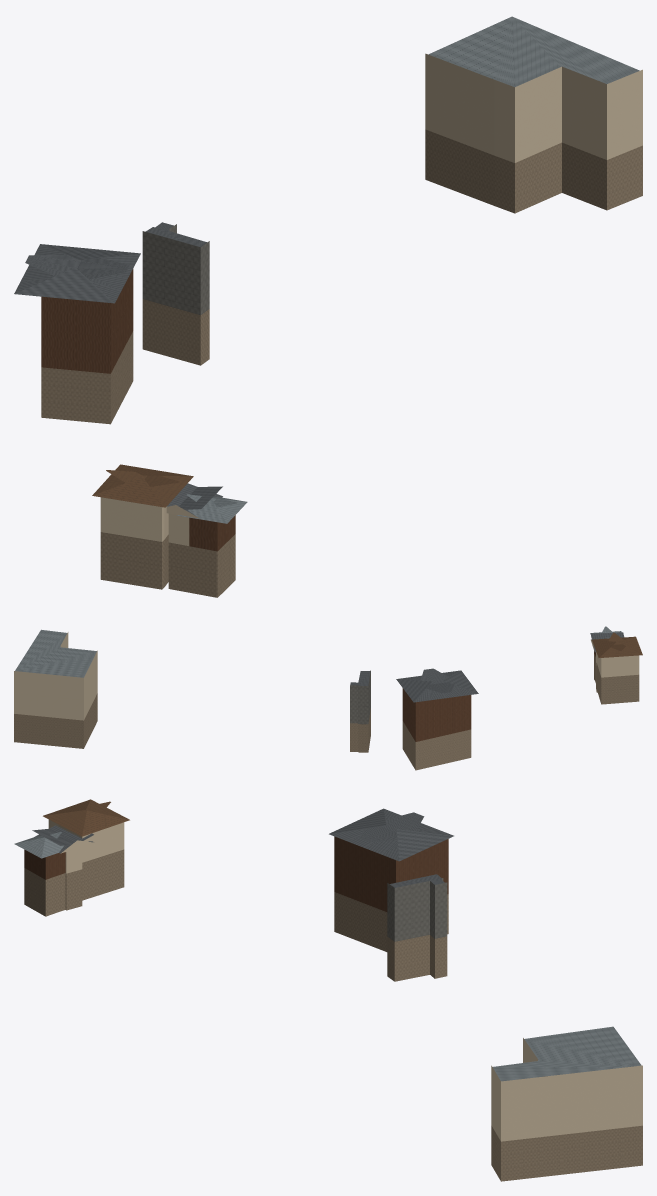
Rendered from bld_c18_29_379.gltf.
3 views of the same model, one above another, from view 1: azimuth 30°, elevation 25°; view 2: azimuth 150°, elevation 25°; view 3: azimuth 270°, elevation 25° (orthographic). The views are drawn at different scales.
Parts seen in each view (by area): view 1: bld_c18_29_379; view 2: bld_c18_29_379; view 3: bld_c18_29_379.
Boxes of the visible parts, x1,y1,x2,y2 form: bld_c18_29_379: [14, 16, 642, 597]; bld_c18_29_379: [14, 626, 642, 770]; bld_c18_29_379: [14, 799, 642, 1181].
Size of the model in its own units: 85.74 by 14.4 by 72.75.
9 materials, 9 textured.
